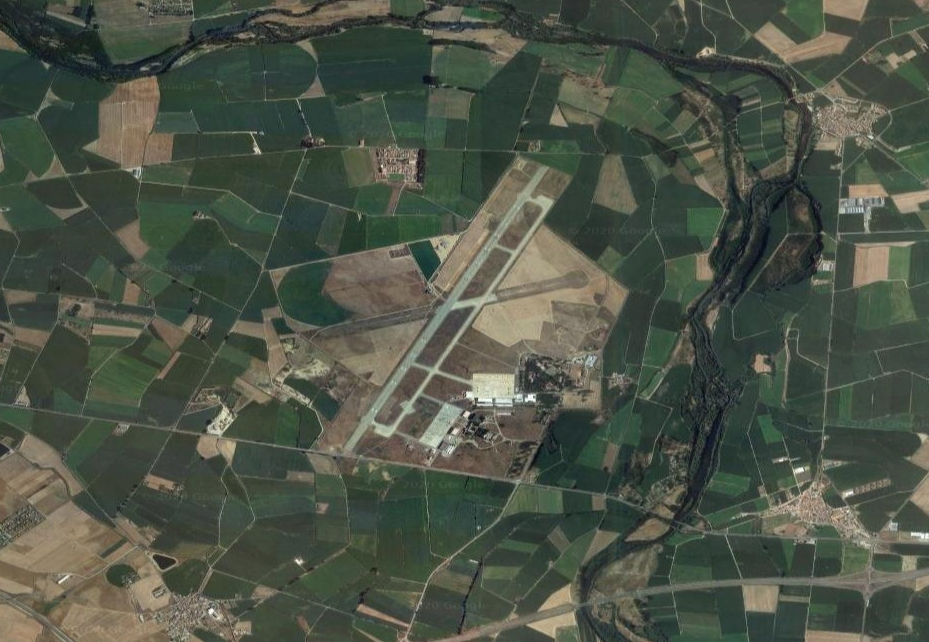airport: (342, 162, 589, 454)
motorway: (1, 585, 67, 642), (810, 563, 928, 589), (444, 611, 533, 642), (534, 589, 623, 620), (626, 571, 715, 602), (716, 571, 809, 589)
